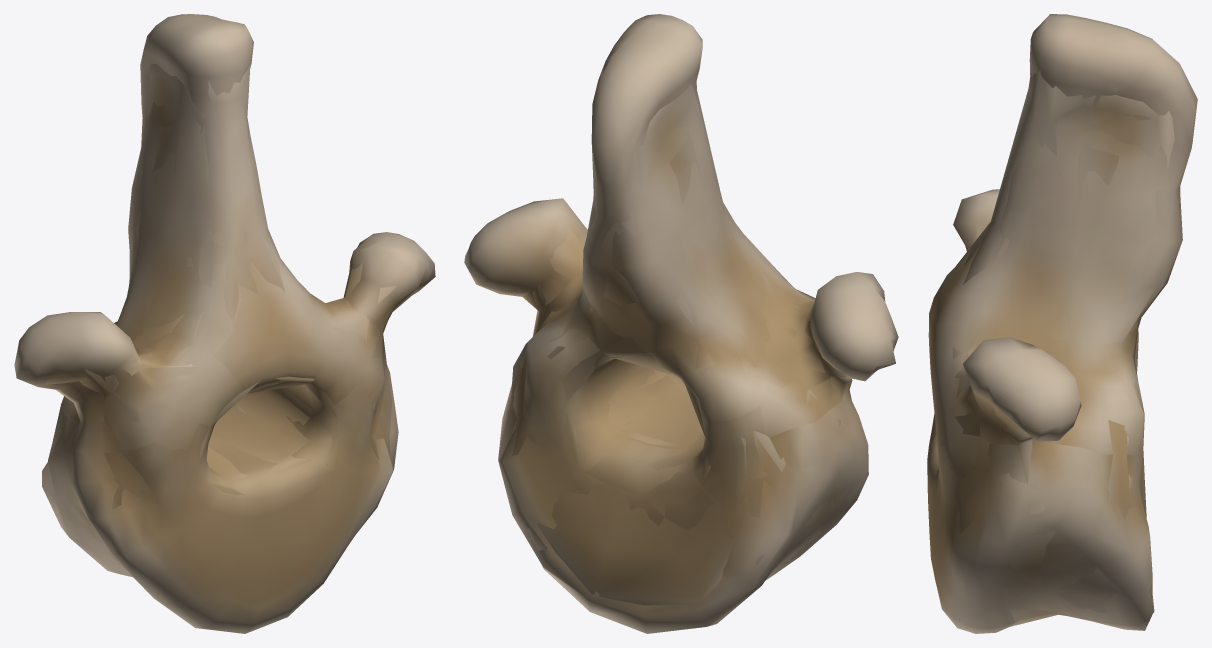
Rendered from vertebrae thoracicae 14.fbx.
3 renders of one model, left to right at view 1: azimuth 30°, elevation 25°; view 2: azimuth 150°, elevation 25°; view 3: azimuth 270°, elevation 25°, orthographic. The views are drawn at different scales.
Visible parts, largest first — view 1: vertebrae thoracicae 14, vertebrae thoracicae 14 low; view 2: vertebrae thoracicae 14, vertebrae thoracicae 14 low; view 3: vertebrae thoracicae 14, vertebrae thoracicae 14 low.
Part boxes in pixels (x1,y1,x2,y2): vertebrae thoracicae 14: (14,14,435,633); vertebrae thoracicae 14 low: (26,62,432,573); vertebrae thoracicae 14: (464,14,898,633); vertebrae thoracicae 14 low: (511,84,895,605); vertebrae thoracicae 14: (927,14,1197,633); vertebrae thoracicae 14 low: (931,70,1180,626).
Size of the model in its own units: 8.63 by 11.27 by 4.55.
Materials: 1 (1 with a texture image).
